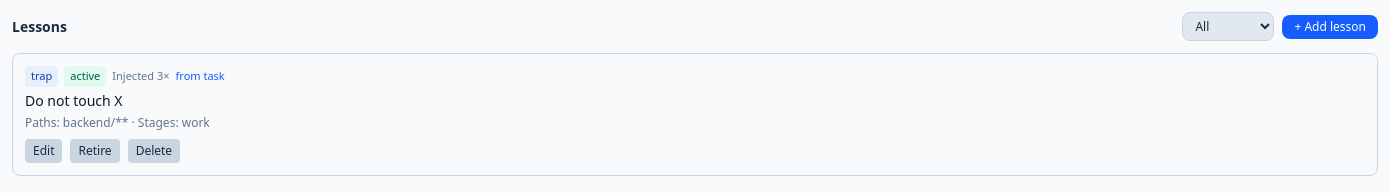
Test: LessonsPanel › retires a lesson
Check: the text "Do not touch X" is shown, box x1=25 y1=90 x2=122 y2=110
Click the button "Retire". click: point(95, 150)
box: x1=70 y1=138 x2=120 y2=162
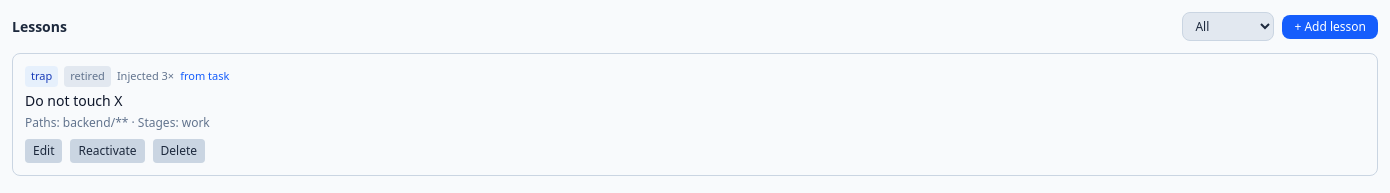
Check: the button "Reactivate" is shown, box x1=70 y1=138 x2=145 y2=162
